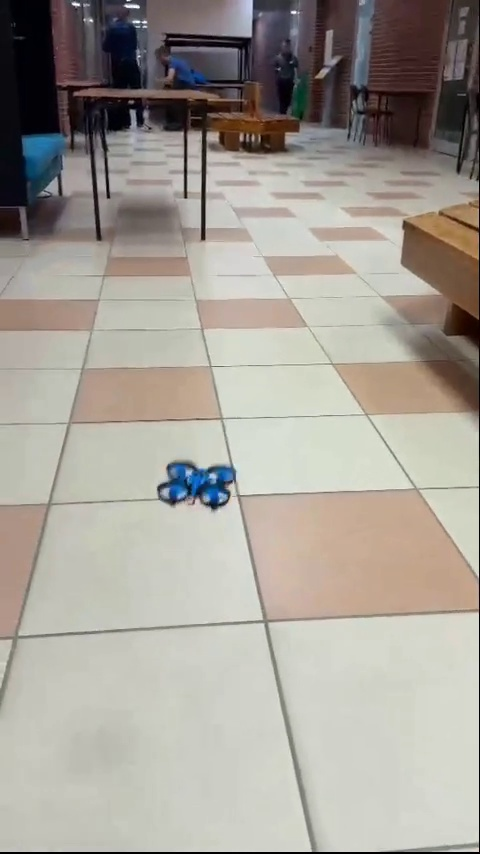drone: (158, 451, 236, 500)
no vest: (101, 6, 147, 88), (271, 25, 301, 118), (156, 42, 198, 91)
